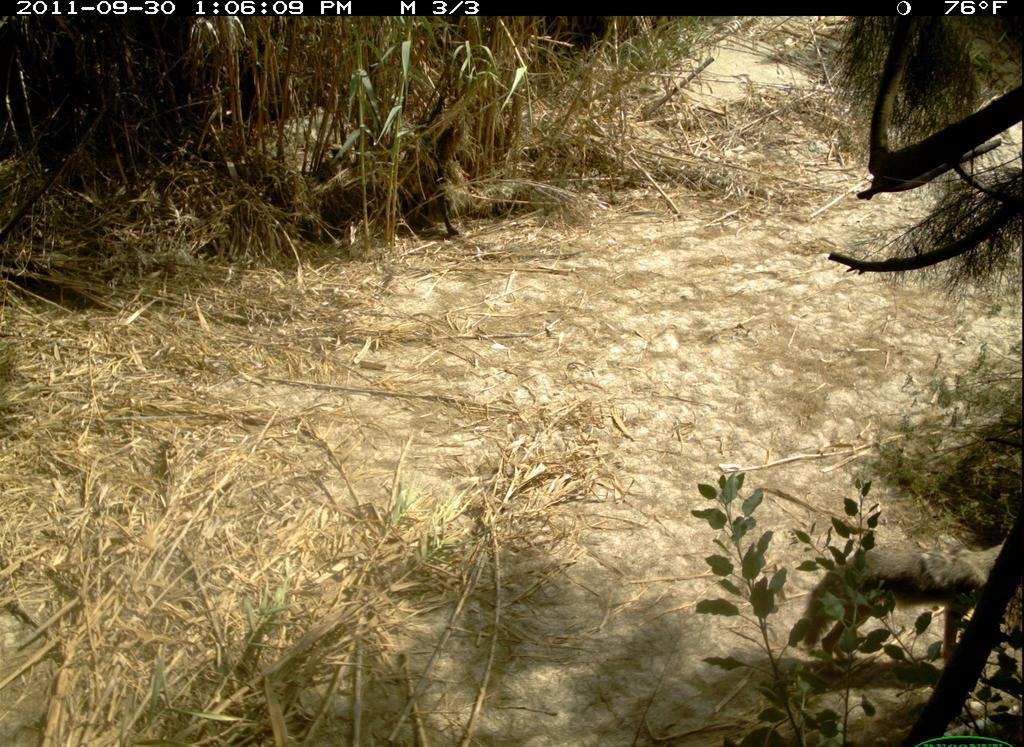coyote: (781, 515, 1023, 667)
